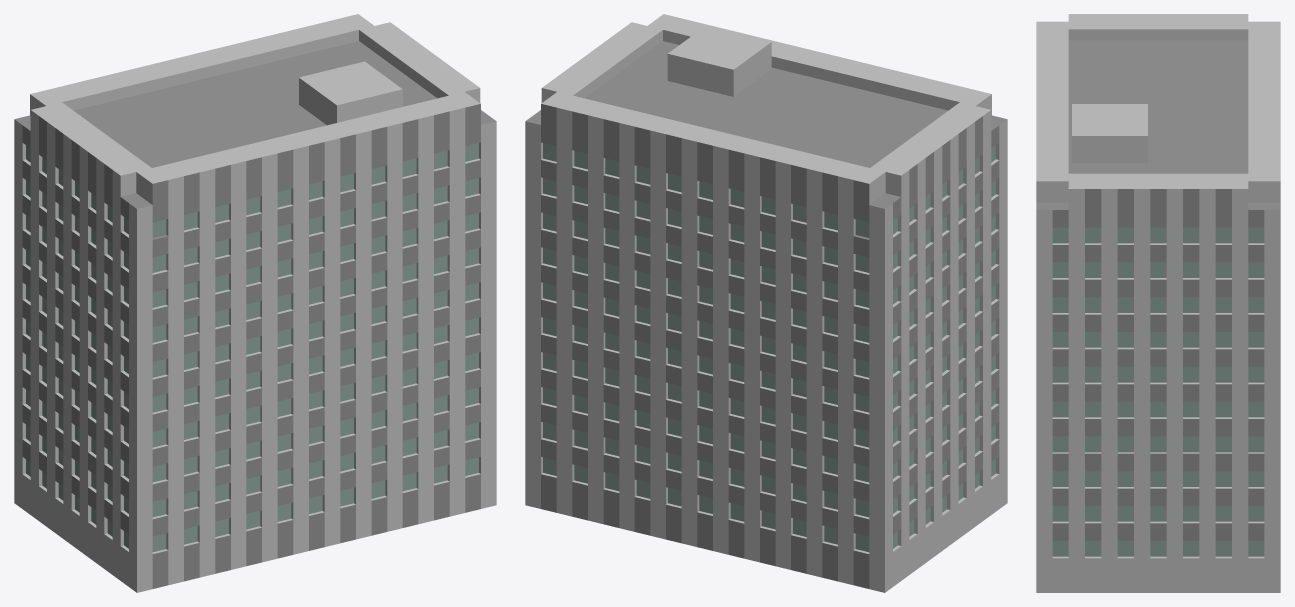
File: SpecialBuilding10.fbx
3 views of the same model, side by side, from view 1: azimuth 30°, elevation 25°; view 2: azimuth 150°, elevation 25°; view 3: azimuth 270°, elevation 25° (orthographic).
Visible parts, largest first — view 1: SpecialBuilding10; view 2: SpecialBuilding10; view 3: SpecialBuilding10.
Boxes of the visible parts, box(x1,y1,x2,y2) form: SpecialBuilding10: box(14, 14, 496, 592); SpecialBuilding10: box(525, 14, 1007, 592); SpecialBuilding10: box(1036, 14, 1280, 592).
Bounding box in the file's own units: 13.01 × 14.57 × 7.69.
